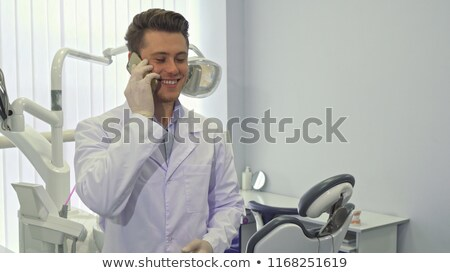phone: (126, 51, 157, 96)
talk: (121, 48, 193, 105)
